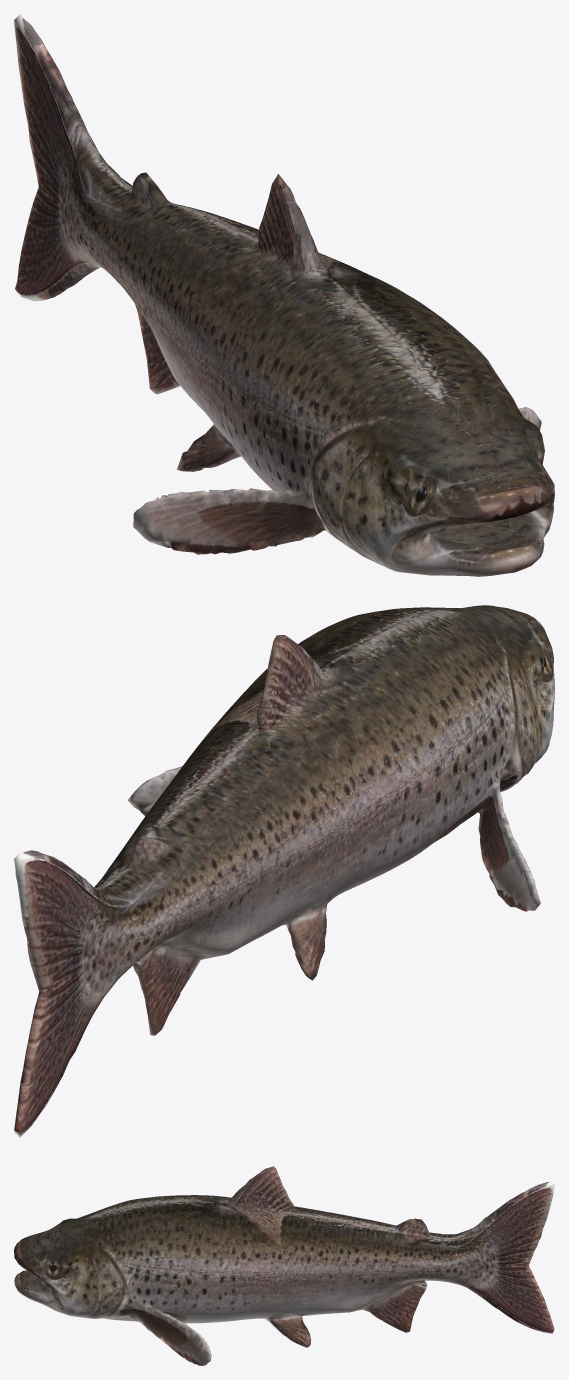
The model's file is fish_taimen.glb.
3 renders of one model, top to bottom at view 1: azimuth 30°, elevation 25°; view 2: azimuth 150°, elevation 25°; view 3: azimuth 270°, elevation 25°, orthographic. The views are drawn at different scales.
Parts seen in each view (by area): view 1: geometry_0; view 2: geometry_0; view 3: geometry_0.
Boxes of the visible parts, x1,y1,x2,y2 form: geometry_0: (14, 14, 554, 576); geometry_0: (14, 605, 554, 1137); geometry_0: (14, 1166, 554, 1365).
Size of the model in its own units: 0.9277 by 0.6735 by 1.96.
1 material, 1 textured.
